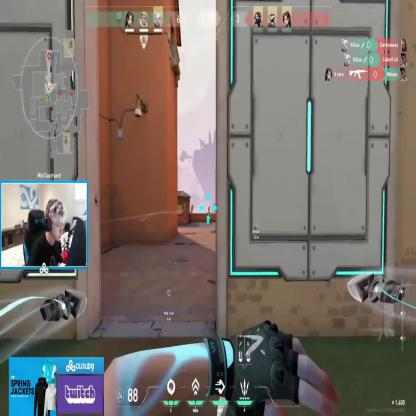enemy: (207, 206, 212, 225)
enemy_head: (208, 206, 210, 211)
